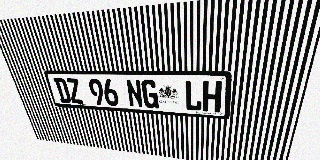6: (101, 79, 120, 106)
9: (87, 78, 106, 105)
D: (53, 78, 72, 103)
G: (141, 79, 159, 109)
H: (202, 81, 222, 113)
L: (184, 80, 202, 111)
N: (125, 79, 144, 108)
Z: (65, 78, 84, 104)
